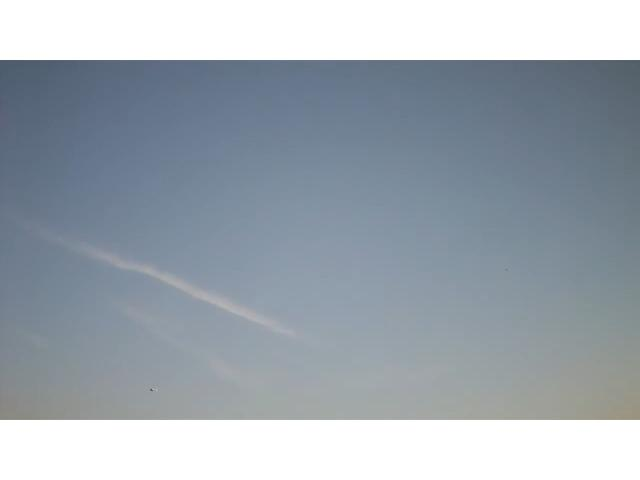Anti-Drone: (147, 387, 167, 395)
